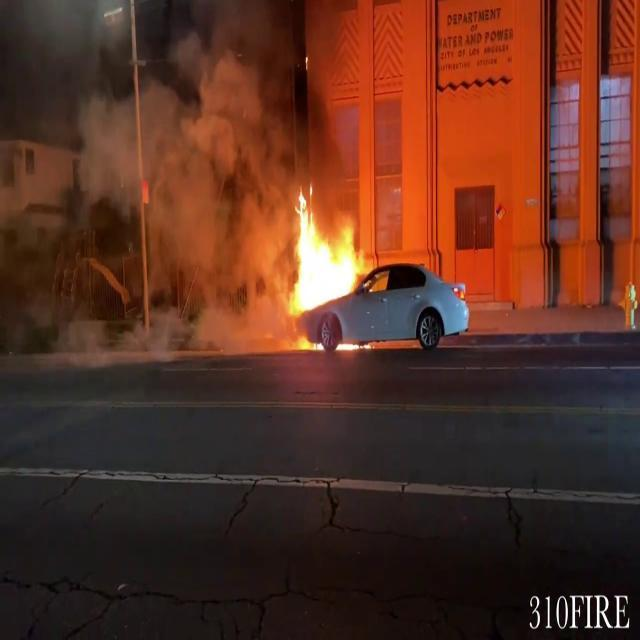Fire: (274, 183, 371, 325)
Smoke: (87, 0, 316, 351)
